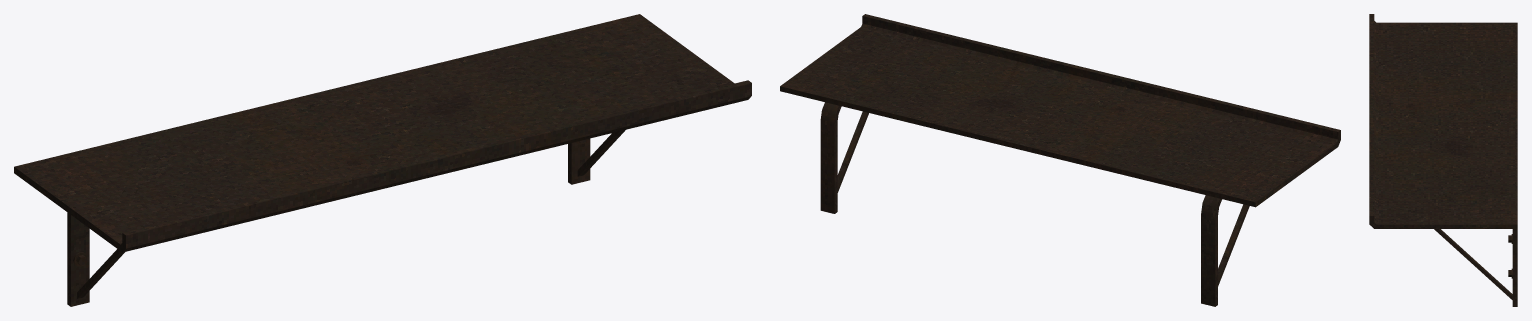
File: hanging_shelf_mx_1.glb
The picture shows the model from 3 angles, left to right: view 1: azimuth 30°, elevation 25°; view 2: azimuth 150°, elevation 25°; view 3: azimuth 270°, elevation 25°; orthographic projection. The views are drawn at different scales.
Visible parts, largest first — view 1: hanging_shelf_mx_1; view 2: hanging_shelf_mx_1; view 3: hanging_shelf_mx_1.
Part boxes in pixels (left/top/right/bottom): hanging_shelf_mx_1: left=14, top=14, right=751, bottom=306; hanging_shelf_mx_1: left=780, top=14, right=1340, bottom=306; hanging_shelf_mx_1: left=1369, top=14, right=1517, bottom=306.
Size of the model in its own units: 1 by 0.25 by 0.31.
Materials: 1 (1 with a texture image).
